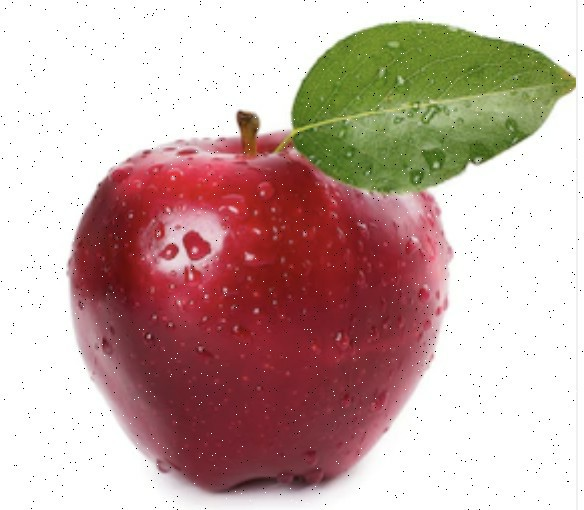fresh_apple: (67, 129, 453, 489)
